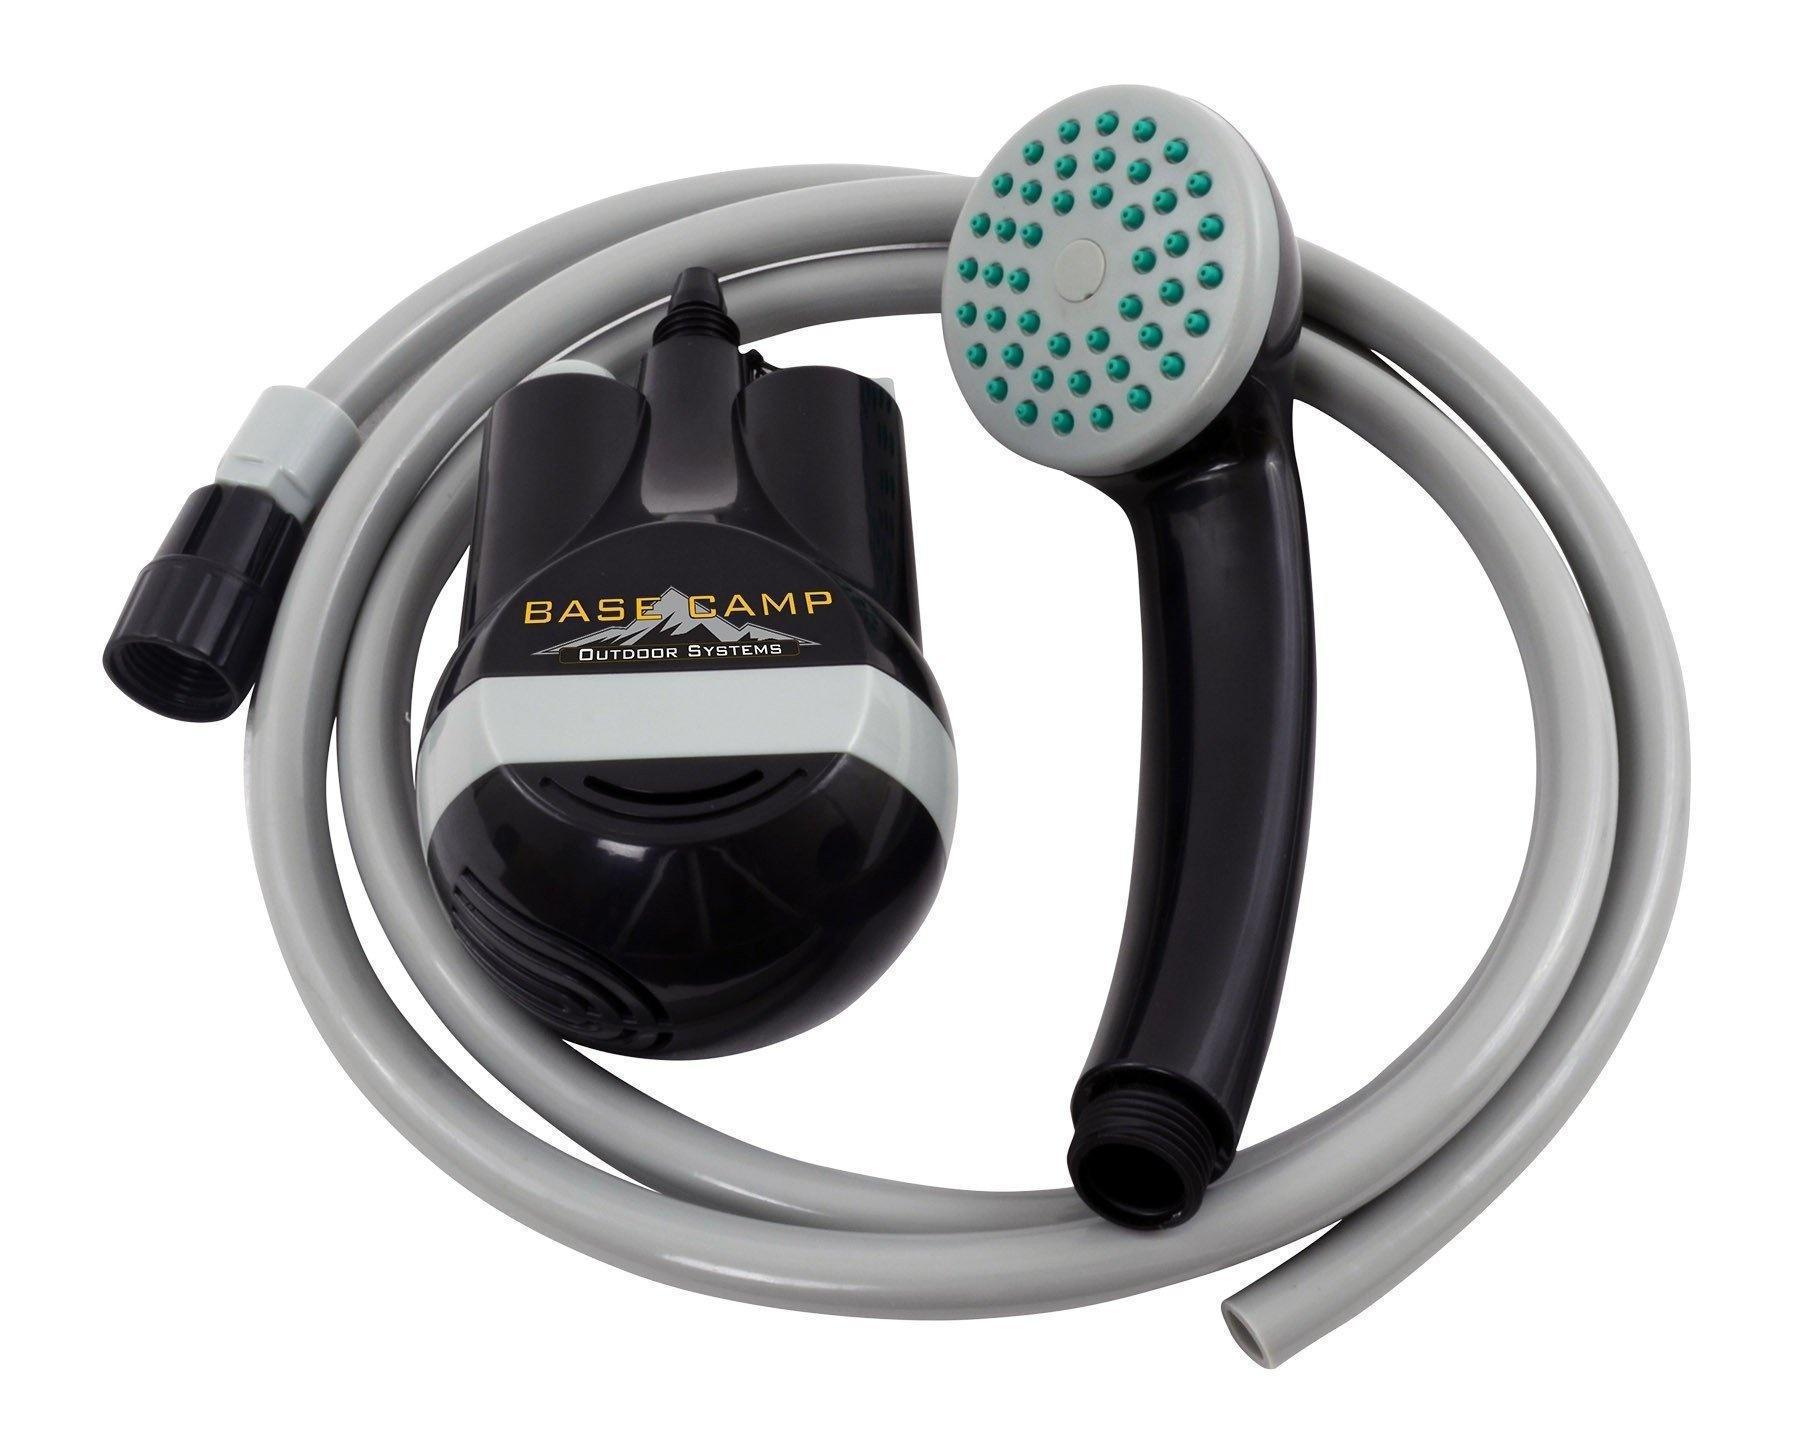Ducha: (61, 30, 1713, 1371)
